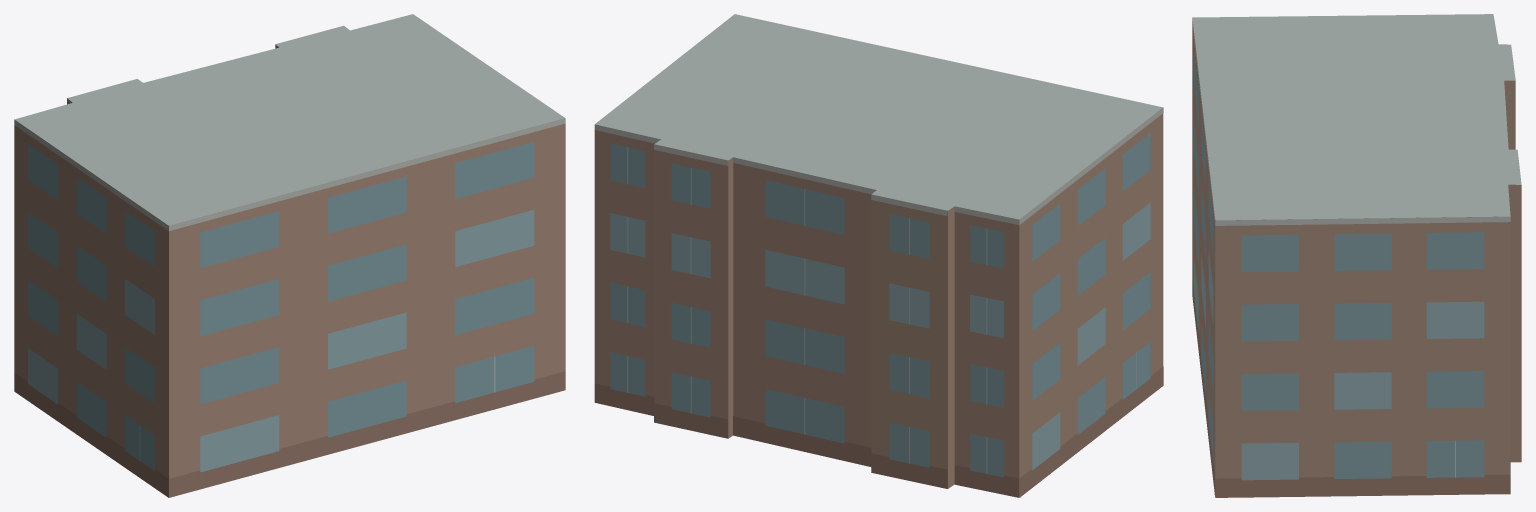
The model's file is survey-upis-32940796.glb.
The picture shows the model from 3 angles, left to right: view 1: azimuth 30°, elevation 25°; view 2: azimuth 150°, elevation 25°; view 3: azimuth 270°, elevation 25°; orthographic projection. The views are drawn at different scales.
Visible parts, largest first — view 1: survey-upis-32940796.tmp; view 2: survey-upis-32940796.tmp; view 3: survey-upis-32940796.tmp.
Part boxes in pixels (box(x1,y1,x2,y2)): survey-upis-32940796.tmp: box(14, 14, 565, 497); survey-upis-32940796.tmp: box(594, 14, 1163, 497); survey-upis-32940796.tmp: box(1192, 14, 1521, 497).
Bounding box in the file's own units: 19.47 × 12.2 × 13.13.
